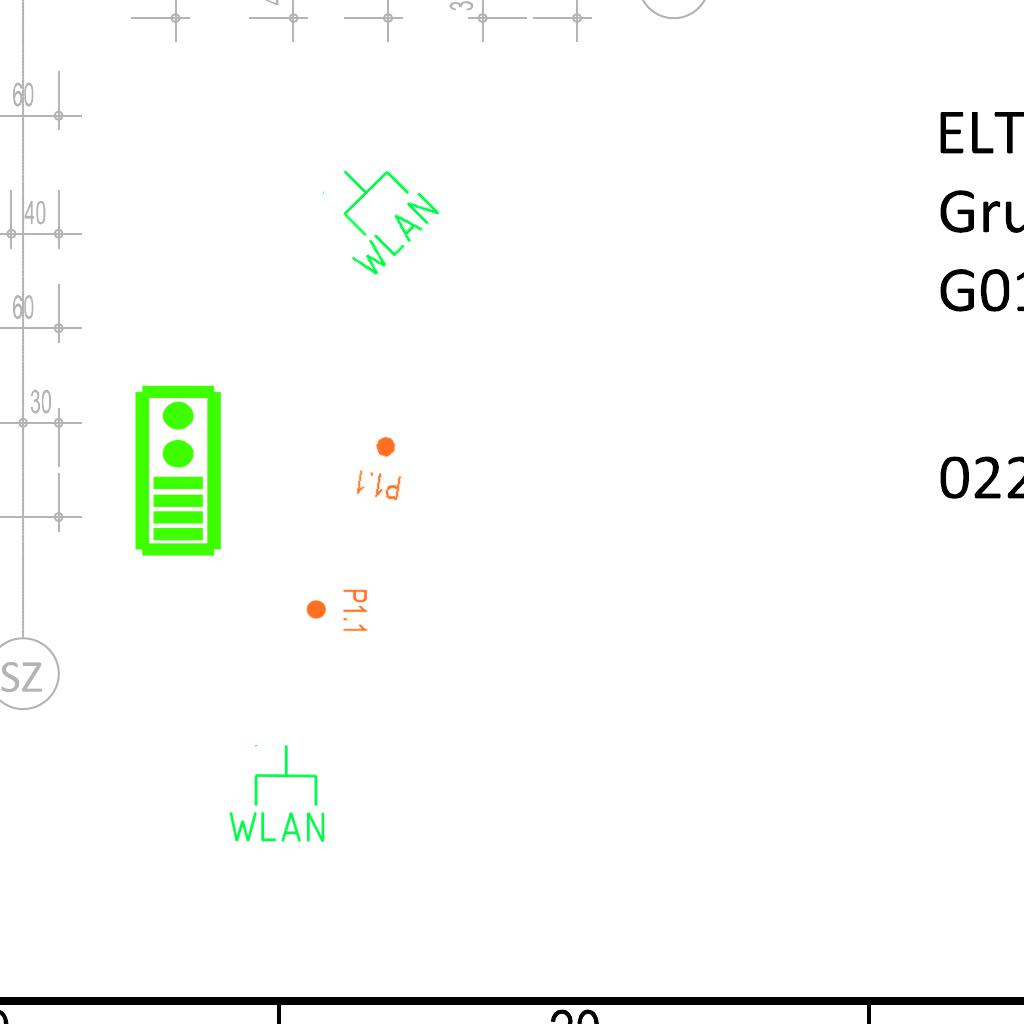Downlight_LED_Einbauleuchten_Flur: (353, 431, 409, 503), (305, 588, 369, 634)
Gegensprechanlage_mit_Video: (129, 382, 224, 558)
WLAN: (298, 138, 446, 287), (224, 742, 329, 846)
